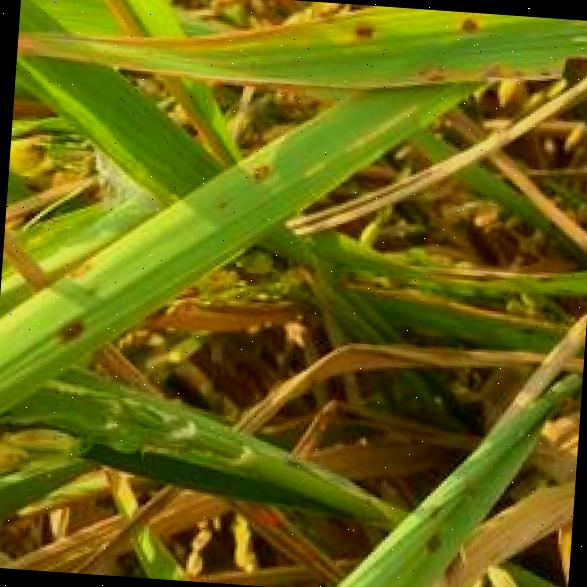Brown_Spot: (40, 308, 90, 344), (343, 10, 384, 42), (449, 10, 484, 34), (415, 520, 440, 551), (239, 156, 274, 176)
